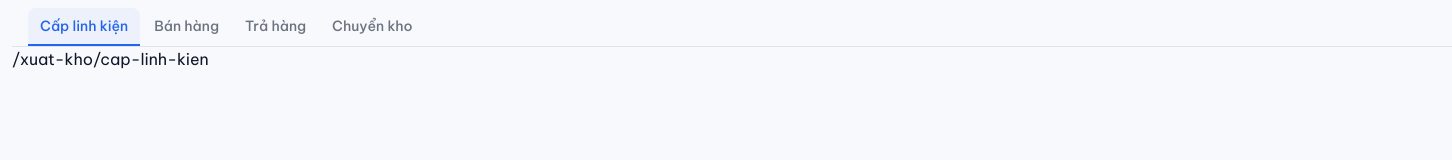
Test case: operational module layouts › click-reaches every stock-out child
Expected: the element named "Xuất kho con" is shown, [28,8,413,46]
Click the tab "Cấp linh kiện" at (84, 27), box [28,8,140,46]
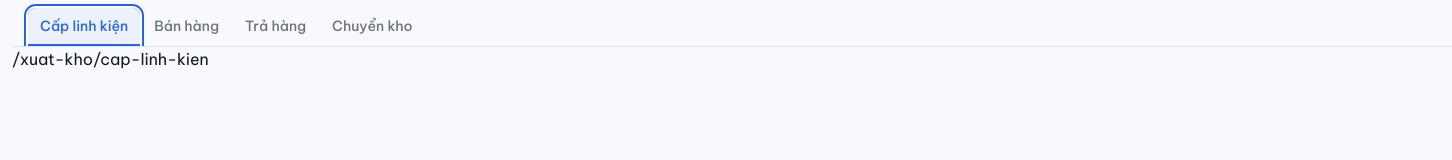
Expected: the text with test id "path" reads "/xuat-kho/cap-linh-kien", [12,49,209,69]
Click the tab "Bán hàng" at (187, 26), box [154,17,219,35]
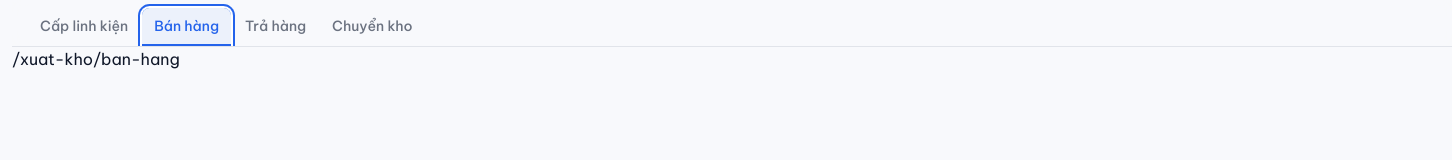
Expected: the text with test id "path" reads "/xuat-kho/ban-hang", [12,49,180,69]
Click the tab "Trả hàng" at (276, 26), box [245,17,306,35]
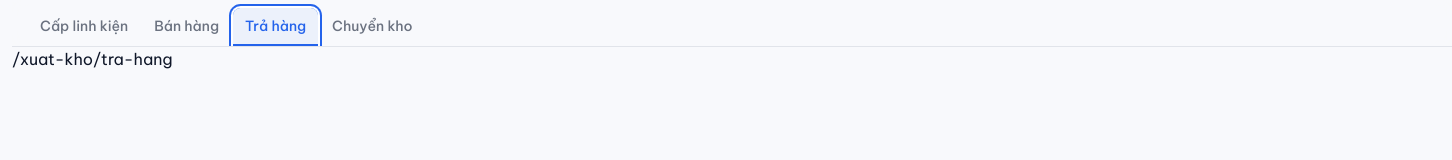
Expected: the text with test id "path" reads "/xuat-kho/tra-hang", [12,49,173,69]
Click the tab "Chuyển kho" at (372, 26), box [332,17,413,35]
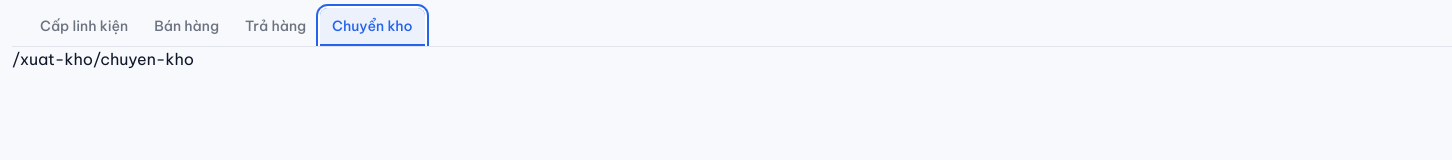
Expected: the text with test id "path" reads "/xuat-kho/chuyen-kho", [12,49,194,69]
